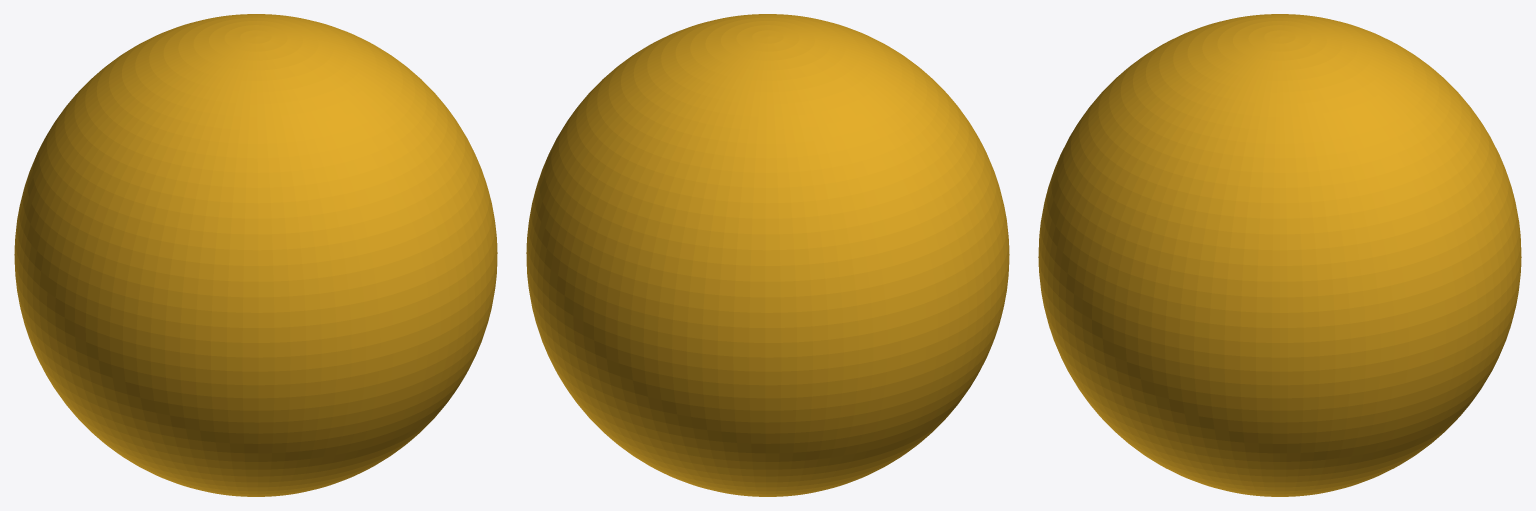
File: ballast_tank.dae
3 renders of one model, left to right at view 1: azimuth 30°, elevation 25°; view 2: azimuth 150°, elevation 25°; view 3: azimuth 270°, elevation 25°, orthographic.
Parts seen in each view (by area): view 1: node_9ceff10b_15a0_47fd_bbd3_41d688600fb3_mesh0; view 2: node_9ceff10b_15a0_47fd_bbd3_41d688600fb3_mesh0; view 3: node_9ceff10b_15a0_47fd_bbd3_41d688600fb3_mesh0.
Part boxes in pixels (left/top/right/bottom): node_9ceff10b_15a0_47fd_bbd3_41d688600fb3_mesh0: left=14, top=14, right=497, bottom=496; node_9ceff10b_15a0_47fd_bbd3_41d688600fb3_mesh0: left=526, top=14, right=1009, bottom=496; node_9ceff10b_15a0_47fd_bbd3_41d688600fb3_mesh0: left=1038, top=14, right=1521, bottom=496.
Size of the model in its own units: 350 by 350 by 350.
